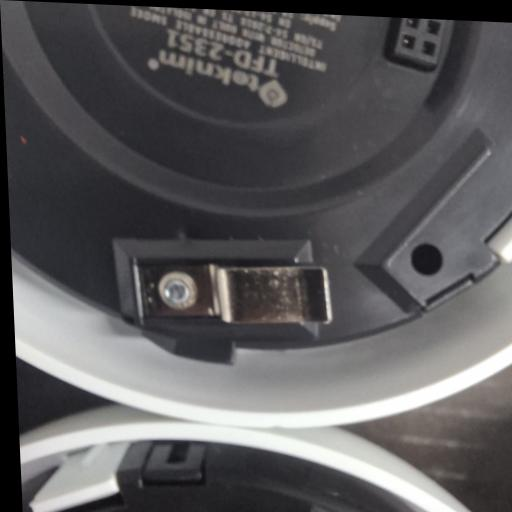yaysiz: (128, 253, 333, 332)
